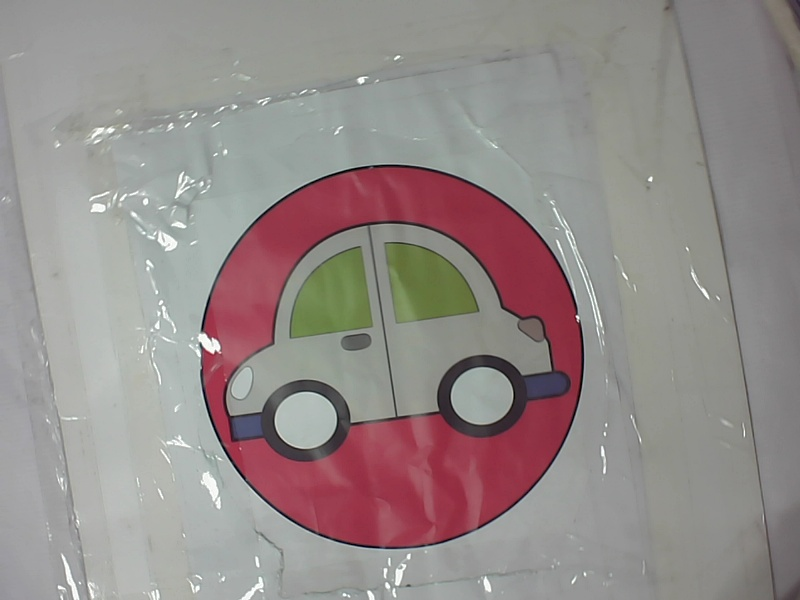areaC: (186, 156, 603, 556)
